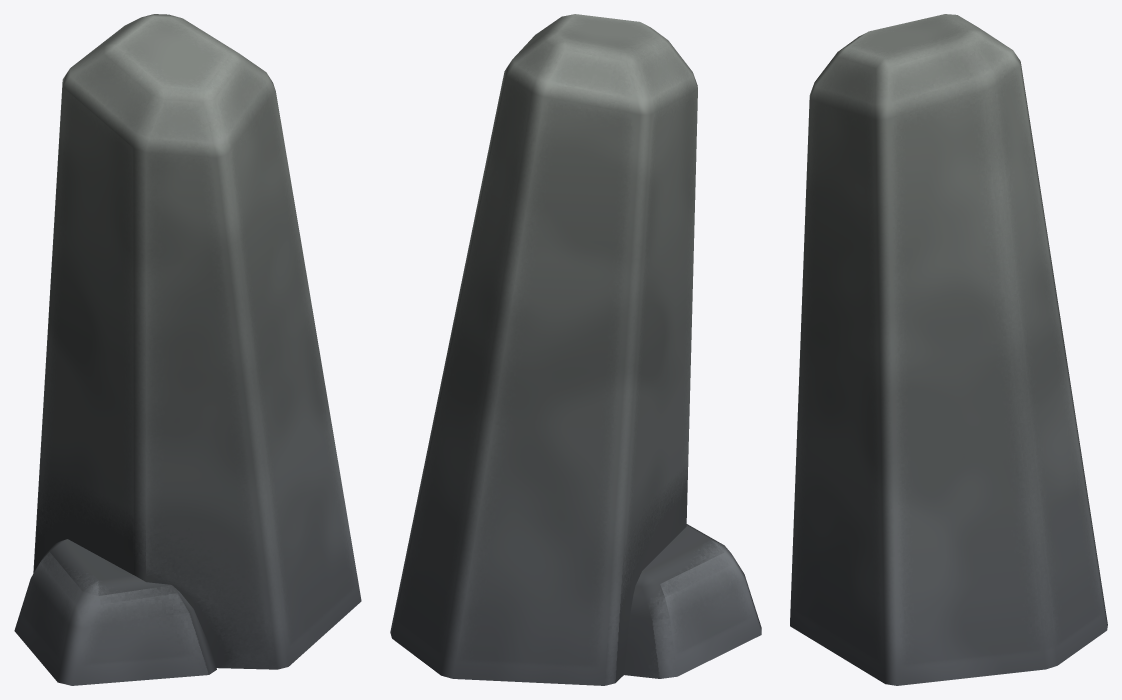
The model's file is standing_stone_3.glb.
The picture shows the model from 3 angles, left to right: view 1: azimuth 30°, elevation 25°; view 2: azimuth 150°, elevation 25°; view 3: azimuth 270°, elevation 25°; orthographic projection. The views are drawn at different scales.
Visible parts, largest first — view 1: standing_stone_3; view 2: standing_stone_3; view 3: standing_stone_3.
Part boxes in pixels (x1=…): standing_stone_3: x1=14, y1=14, x2=361, y2=685; standing_stone_3: x1=390, y1=14, x2=761, y2=685; standing_stone_3: x1=790, y1=14, x2=1107, y2=685.
Bounding box in the file's own units: 1 × 1.8 × 0.9.
1 material, 1 textured.
